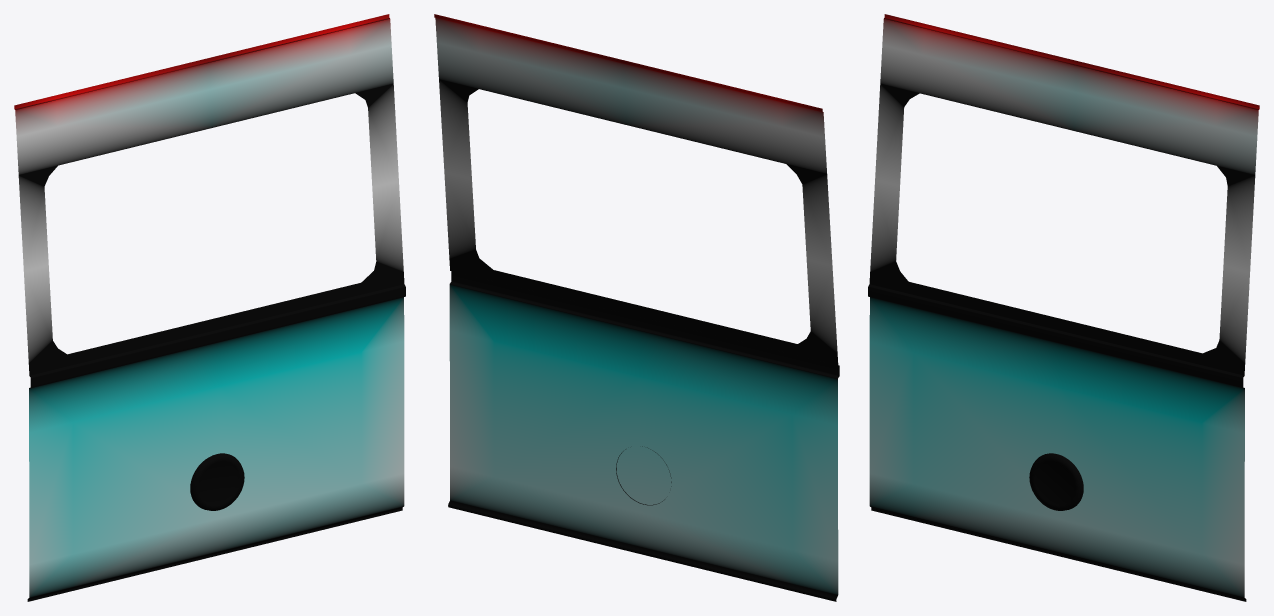
The model's file is SM_ext_wall_window_200_01.fbx.
3 renders of one model, left to right at view 1: azimuth 30°, elevation 25°; view 2: azimuth 150°, elevation 25°; view 3: azimuth 330°, elevation 25°, orthographic. The views are drawn at different scales.
Parts seen in each view (by area): view 1: SM_ext_wall_window_200_01; view 2: SM_ext_wall_window_200_01; view 3: SM_ext_wall_window_200_01.
Part boxes in pixels (x1=…): SM_ext_wall_window_200_01: x1=14, y1=14, x2=405, y2=601; SM_ext_wall_window_200_01: x1=434, y1=14, x2=839, y2=601; SM_ext_wall_window_200_01: x1=868, y1=14, x2=1259, y2=601.
Size of the model in its own units: 200 by 16.17 by 248.
